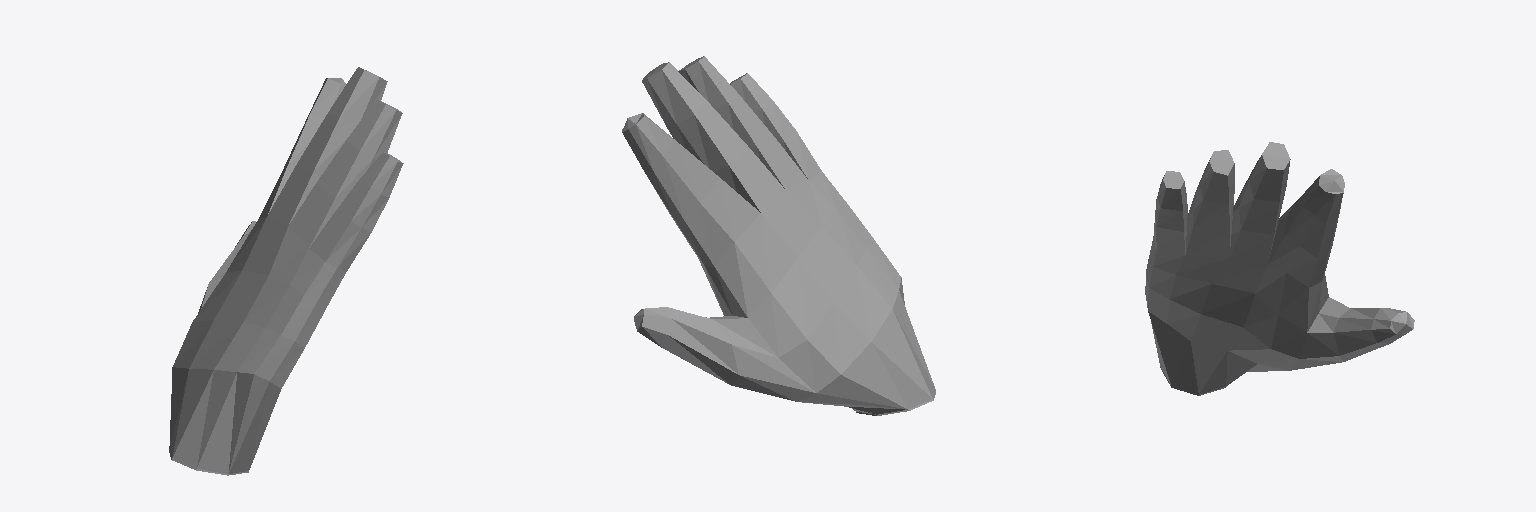
Rendered from hand.obj.
3 renders of one model, left to right at view 1: azimuth 30°, elevation 25°; view 2: azimuth 150°, elevation 25°; view 3: azimuth 270°, elevation 25°, orthographic.
Parts seen in each view (by area): view 1: personaje_Cube.002; view 2: personaje_Cube.002; view 3: personaje_Cube.002.
Boxes of the visible parts, x1=… form: personaje_Cube.002: x1=169, y1=67, x2=403, y2=475; personaje_Cube.002: x1=622, y1=56, x2=935, y2=415; personaje_Cube.002: x1=1145, y1=142, x2=1414, y2=395.
Bounding box in the file's own units: 0.3807 × 0.479 × 0.355.